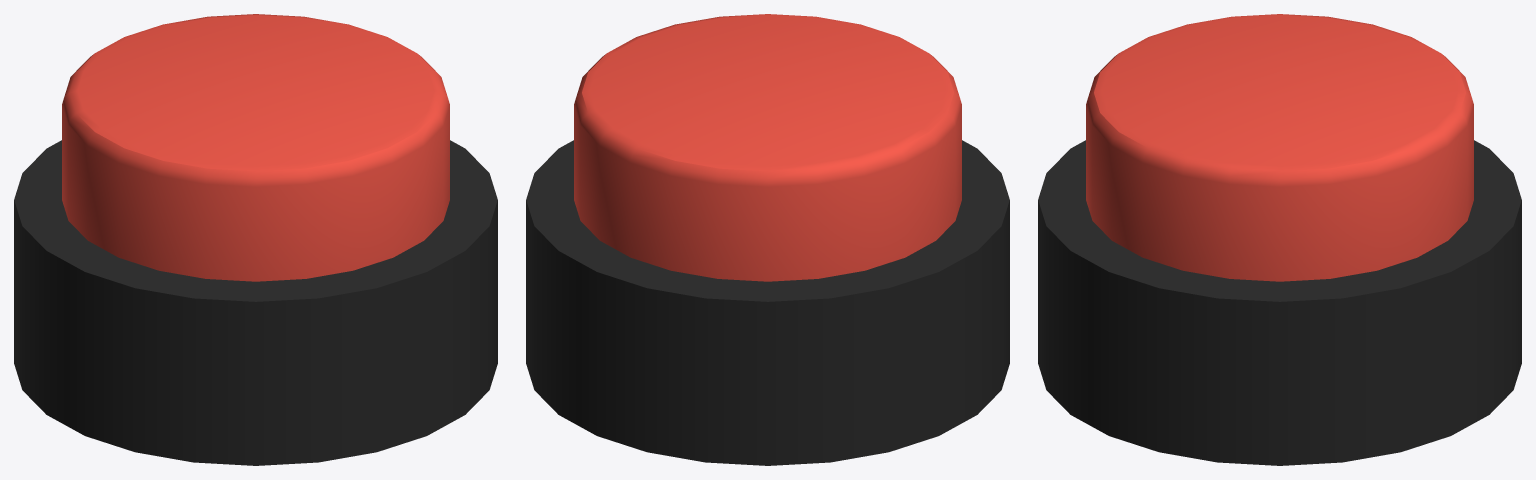
The model's file is CircularButton.fbx.
3 views of the same model, side by side, from view 1: azimuth 30°, elevation 25°; view 2: azimuth 150°, elevation 25°; view 3: azimuth 270°, elevation 25° (orthographic).
Visible parts, largest first — view 1: Circular_Button_Base, Circular_Button; view 2: Circular_Button_Base, Circular_Button; view 3: Circular_Button_Base, Circular_Button.
Boxes of the visible parts, x1,y1,x2,y2 form: Circular_Button_Base: (14,140,497,465); Circular_Button: (62,14,449,281); Circular_Button_Base: (526,140,1009,465); Circular_Button: (574,14,961,281); Circular_Button_Base: (1038,140,1521,465); Circular_Button: (1086,14,1473,281).
Bounding box in the file's own units: 200 × 125 × 200.
